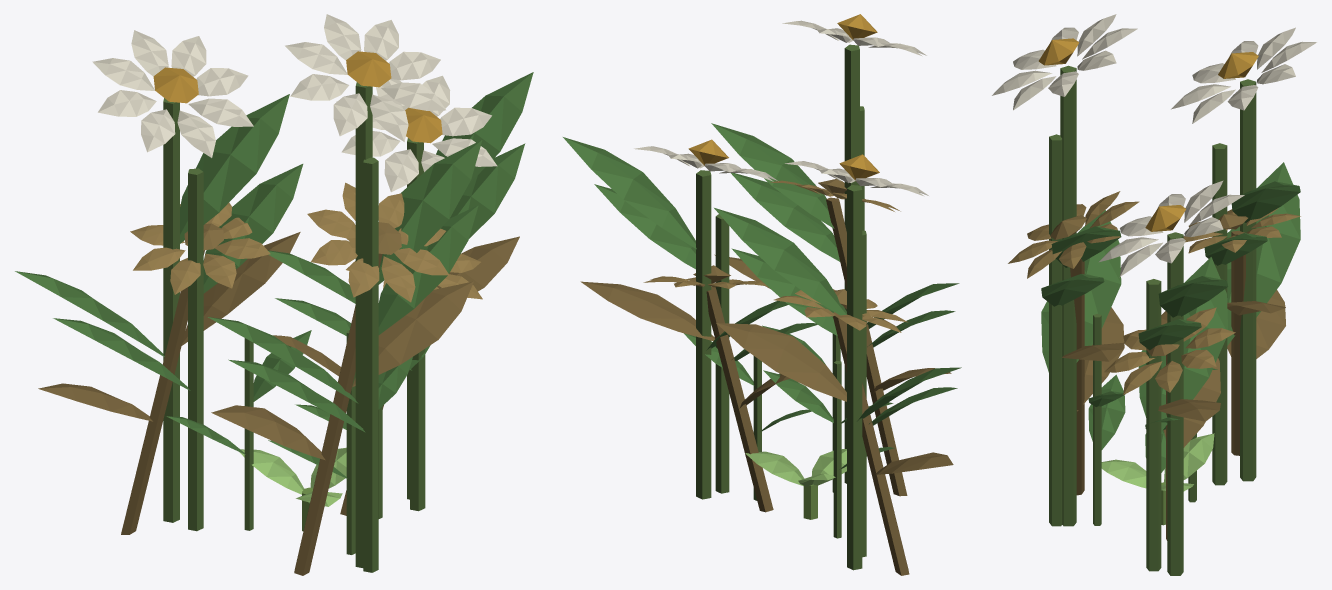
Rendered from spring_daisy.glb.
The picture shows the model from 3 angles, left to right: view 1: azimuth 30°, elevation 25°; view 2: azimuth 150°, elevation 25°; view 3: azimuth 270°, elevation 25°; orthographic projection. The views are drawn at different scales.
Parts seen in each view (by area): view 1: stage3, dead, stage2, stage1, stage0; view 2: stage3, dead, stage2, stage1, stage0; view 3: stage3, dead, stage2, stage1, stage0.
Part boxes in pixels (x1,y1,x2,y2): stage3: (15,14,533,567); dead: (38,182,519,575); stage2: (53,143,525,572); stage1: (166,330,430,554); stage0: (239,447,346,531); stage3: (563,14,961,570); dead: (580,179,953,575); stage2: (594,106,957,557); stage1: (684,325,894,538); stage0: (745,449,846,519); stage3: (992,14,1316,575); dead: (1008,191,1300,540); stage2: (1041,134,1267,571); stage1: (1088,313,1220,525); stage0: (1101,433,1214,525).
Size of the model in its own units: 0.7327 by 0.7626 by 0.456.
